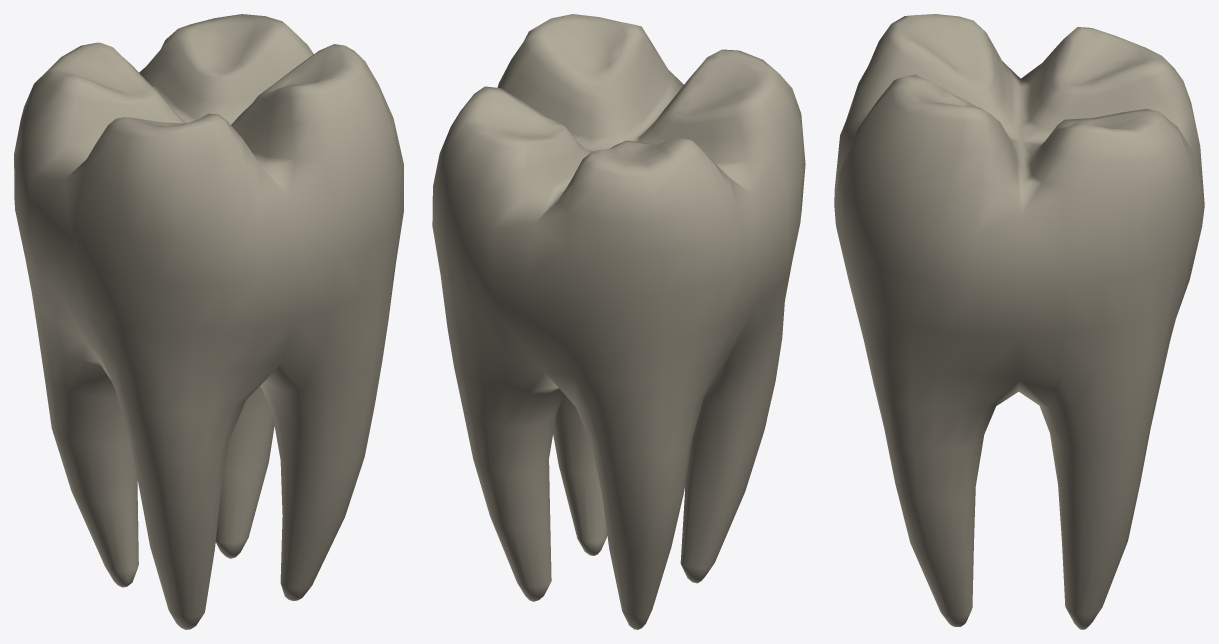
File: molar.glb
3 views of the same model, side by side, from view 1: azimuth 30°, elevation 25°; view 2: azimuth 150°, elevation 25°; view 3: azimuth 270°, elevation 25° (orthographic). The views are drawn at different scales.
Parts seen in each view (by area): view 1: molar; view 2: molar; view 3: molar.
Part boxes in pixels (bbox=[...]): molar: bbox=[14, 14, 403, 629]; molar: bbox=[432, 14, 805, 629]; molar: bbox=[834, 14, 1204, 629].
Size of the model in its own units: 0.0127 by 0.0208 by 0.0127.
Materials: 1 (1 with a texture image).
